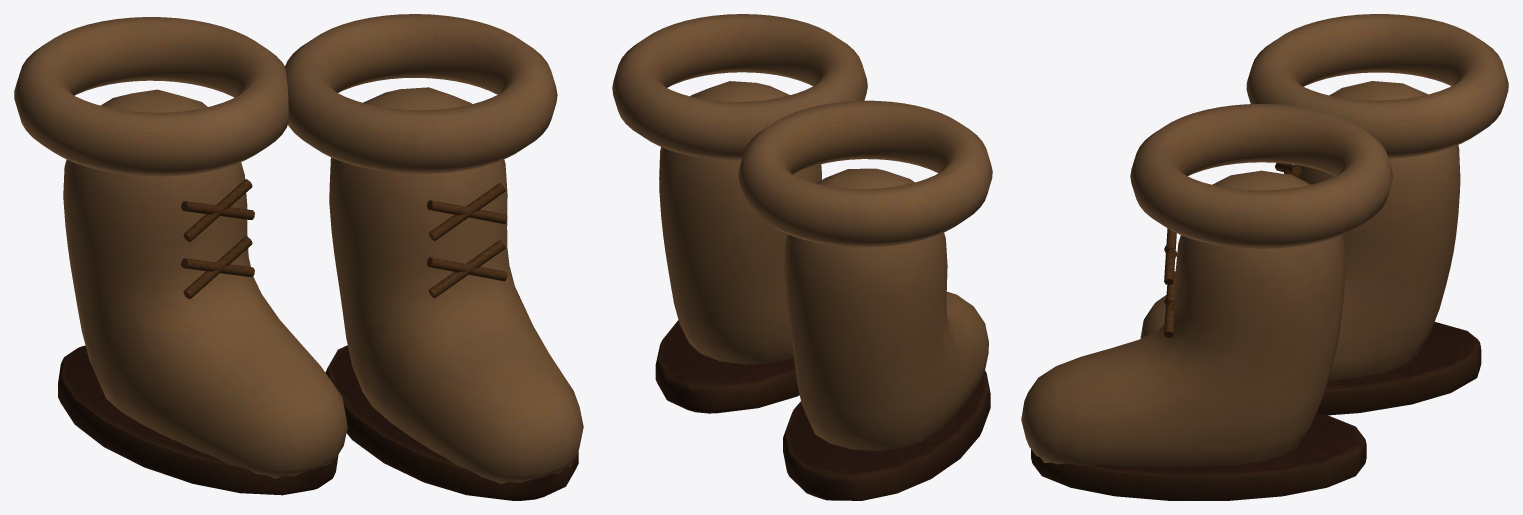
The model's file is soft_boots.glb.
3 views of the same model, side by side, from view 1: azimuth 30°, elevation 25°; view 2: azimuth 150°, elevation 25°; view 3: azimuth 270°, elevation 25° (orthographic). The views are drawn at different scales.
Visible parts, largest first — view 1: soft_boots; view 2: soft_boots; view 3: soft_boots.
Part boxes in pixels (x1,y1,x2,y2): soft_boots: (14, 14, 583, 500); soft_boots: (612, 14, 992, 500); soft_boots: (1021, 14, 1508, 500).
Size of the model in its own units: 0.242 by 0.1798 by 0.2523.
1 material, 1 textured.
